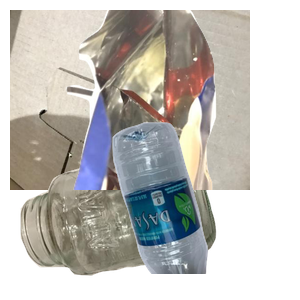cardboard: (10, 10, 250, 190)
glass: (18, 143, 227, 300)
plastic: (110, 120, 300, 300)
trash: (63, 10, 300, 190)
